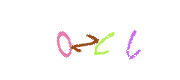0: (45, 0, 125, 80)
2: (49, 0, 129, 80)
C: (50, 0, 130, 80), (62, 0, 142, 80)
